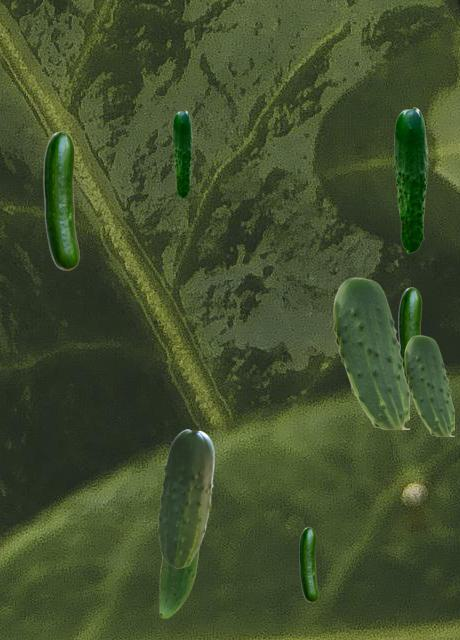cucumber: (333, 277, 408, 428), (157, 429, 213, 567), (393, 107, 428, 252), (404, 335, 453, 435), (43, 131, 78, 269), (159, 550, 199, 617), (172, 110, 192, 197), (398, 287, 422, 357), (299, 527, 317, 601)
